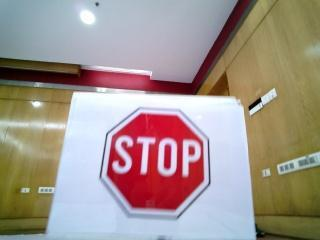stop: (76, 97, 226, 217)
